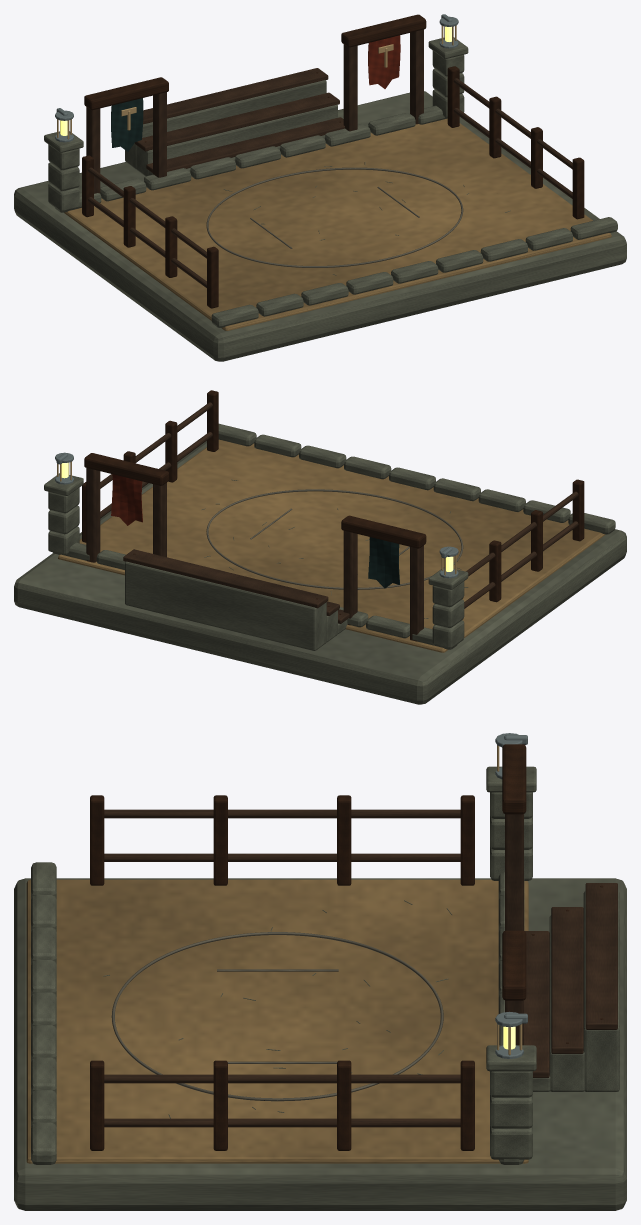
Rendered from arena.glb.
3 renders of one model, top to bottom at view 1: azimuth 30°, elevation 25°; view 2: azimuth 150°, elevation 25°; view 3: azimuth 270°, elevation 25°, orthographic. The views are drawn at different scales.
Parts seen in each view (by area): view 1: Environment_Fine arena sand, Environment_Carved limestone.001, Environment_Oak honey.002, Environment_Oak end grain.002, Environment_Warm linen.002, Woven house pennant.003, Woven house pennant.002, Environment_Blackened iron.002, Environment_Aged brass.002; view 2: Environment_Carved limestone.001, Environment_Fine arena sand, Environment_Oak honey.002, Environment_Oak end grain.002, Environment_Warm linen.002, Woven house pennant.002, Woven house pennant.003, Environment_Blackened iron.002; view 3: Environment_Fine arena sand, Environment_Carved limestone.001, Environment_Oak honey.002, Environment_Oak end grain.002, Environment_Warm linen.002, Environment_Blackened iron.002.
Boxes of the visible parts, x1,y1,x2,y2 form: Environment_Fine arena sand: (64, 118, 611, 330); Environment_Carved limestone.001: (14, 37, 626, 361); Environment_Oak honey.002: (86, 29, 572, 287); Environment_Oak end grain.002: (82, 14, 584, 308); Environment_Warm linen.002: (206, 167, 463, 267); Woven house pennant.003: (368, 35, 400, 88); Woven house pennant.002: (111, 98, 143, 151); Environment_Blackened iron.002: (55, 14, 458, 142); Environment_Aged brass.002: (57, 25, 456, 139); Environment_Carved limestone.001: (14, 423, 626, 704); Environment_Fine arena sand: (58, 439, 605, 652); Environment_Oak honey.002: (86, 402, 578, 641); Environment_Oak end grain.002: (82, 390, 584, 614); Environment_Warm linen.002: (206, 489, 463, 589); Woven house pennant.002: (368, 537, 400, 588); Woven house pennant.003: (111, 474, 142, 525); Environment_Blackened iron.002: (55, 452, 458, 578); Environment_Fine arena sand: (26, 879, 528, 1163); Environment_Carved limestone.001: (14, 766, 626, 1210); Environment_Oak honey.002: (104, 809, 617, 1127); Environment_Oak end grain.002: (90, 744, 603, 1150); Environment_Warm linen.002: (111, 932, 443, 1101); Environment_Blackened iron.002: (495, 733, 527, 1058).
Size of the model in its own units: 7.45 by 2.34 by 6.45.
10 materials, 7 textured.
